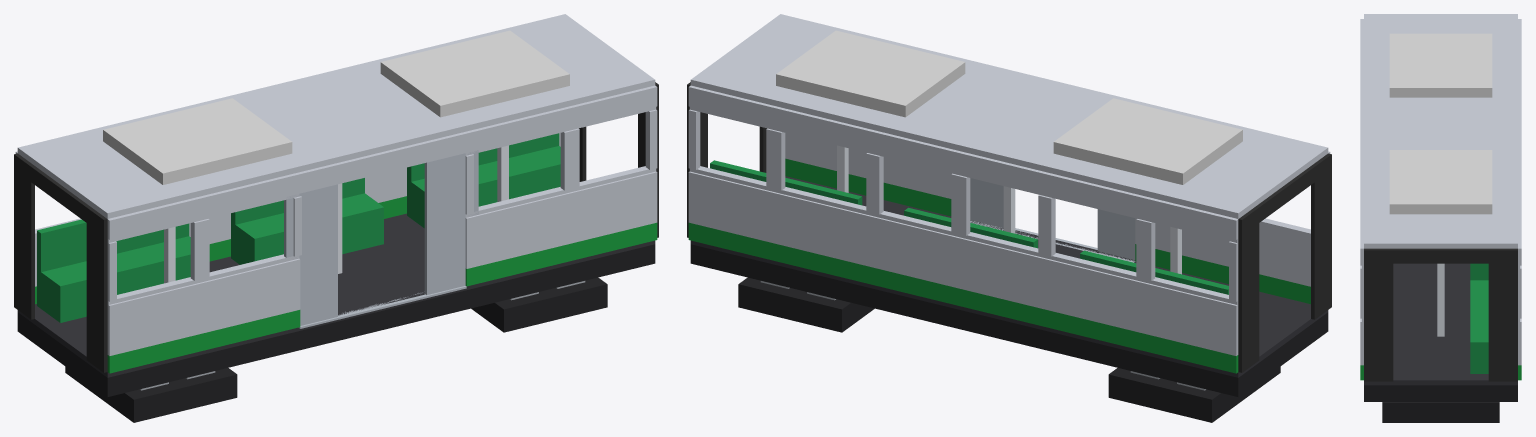
Rendered from metro_wagon_half_l2.obj.
The picture shows the model from 3 angles, left to right: view 1: azimuth 30°, elevation 25°; view 2: azimuth 150°, elevation 25°; view 3: azimuth 270°, elevation 25°; orthographic projection. The views are drawn at different scales.
Size of the model in its own units: 3 by 1.26 by 0.88.
